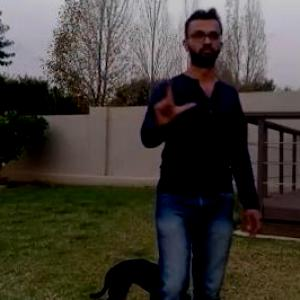land_hand: (149, 69, 196, 127)
